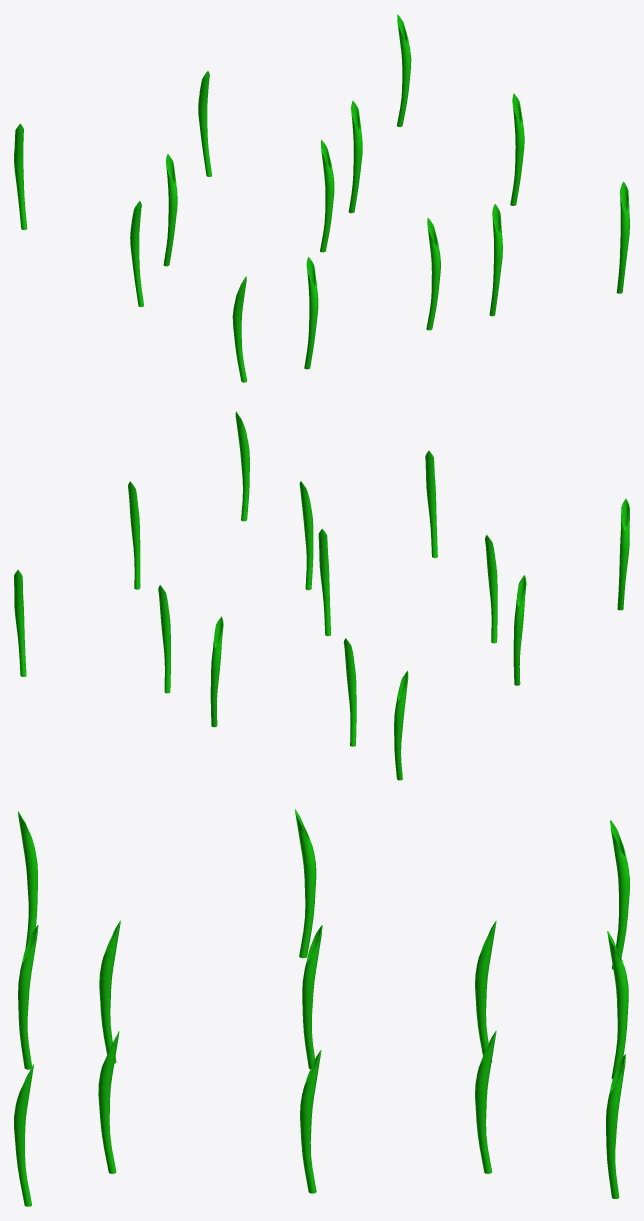
The model's file is Wheat_lvl1.fbx.
3 renders of one model, top to bottom at view 1: azimuth 30°, elevation 25°; view 2: azimuth 150°, elevation 25°; view 3: azimuth 270°, elevation 25°, orthographic. The views are drawn at different scales.
Parts seen in each view (by area): view 1: Seed_wheed_lvl1_LOD0; view 2: Seed_wheed_lvl1_LOD0; view 3: Seed_wheed_lvl1_LOD0.
Part boxes in pixels (left/top/right/bottom): Seed_wheed_lvl1_LOD0: left=14, top=14, right=629, bottom=382; Seed_wheed_lvl1_LOD0: left=14, top=411, right=629, bottom=780; Seed_wheed_lvl1_LOD0: left=14, top=809, right=629, bottom=1206.
Size of what is drawn, in the model's own units: 87.63 by 86.45 by 31.06.
